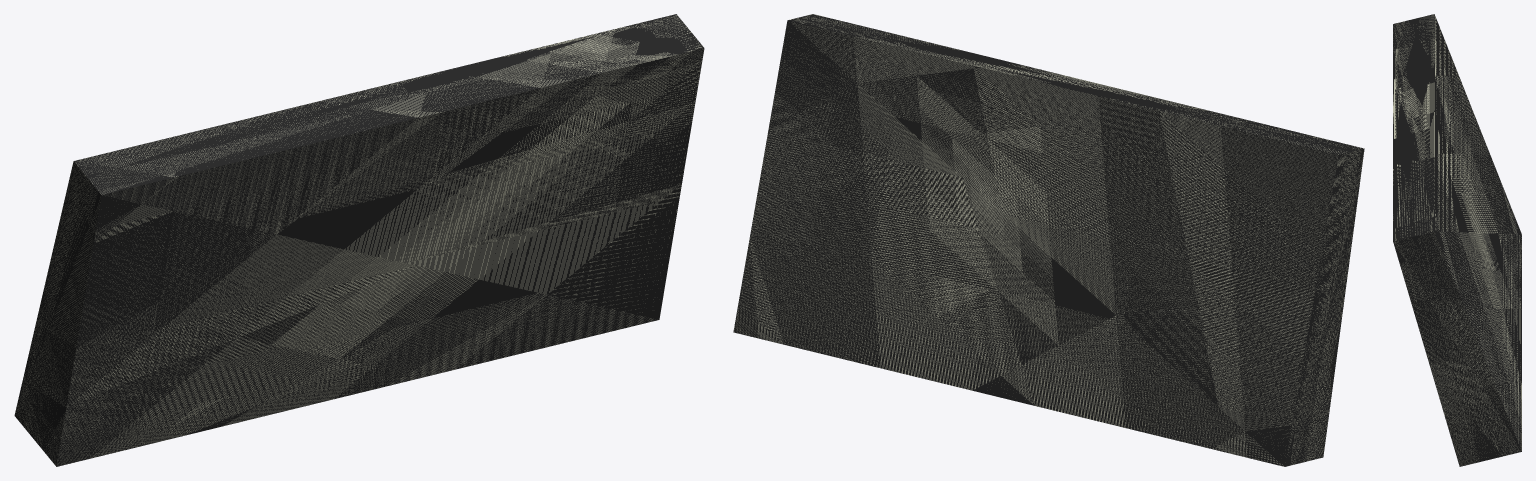
The model's file is original-8.obj.
The picture shows the model from 3 angles, left to right: view 1: azimuth 30°, elevation 25°; view 2: azimuth 150°, elevation 25°; view 3: azimuth 270°, elevation 25°; orthographic projection. The views are drawn at different scales.
Parts seen in each view (by area): view 1: Group8/mesh10/mesh10-geometry#mesh10-geometry; view 2: Group8/mesh10/mesh10-geometry#mesh10-geometry; view 3: Group8/mesh10/mesh10-geometry#mesh10-geometry.
Part boxes in pixels (box(x1,y1,x2,y2)): Group8/mesh10/mesh10-geometry#mesh10-geometry: box(14, 14, 704, 466); Group8/mesh10/mesh10-geometry#mesh10-geometry: box(733, 14, 1364, 466); Group8/mesh10/mesh10-geometry#mesh10-geometry: box(1393, 14, 1521, 466).
Size of the model in its own units: 0.1931 by 0.0974 by 0.0483.
